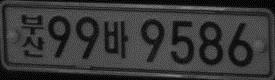5: (170, 19, 194, 64)
6: (227, 22, 254, 67)
8: (198, 21, 224, 66)
9: (139, 18, 165, 62), (46, 14, 71, 58), (75, 16, 99, 60)
바: (103, 20, 128, 58)
부산_V: (20, 13, 45, 59)
